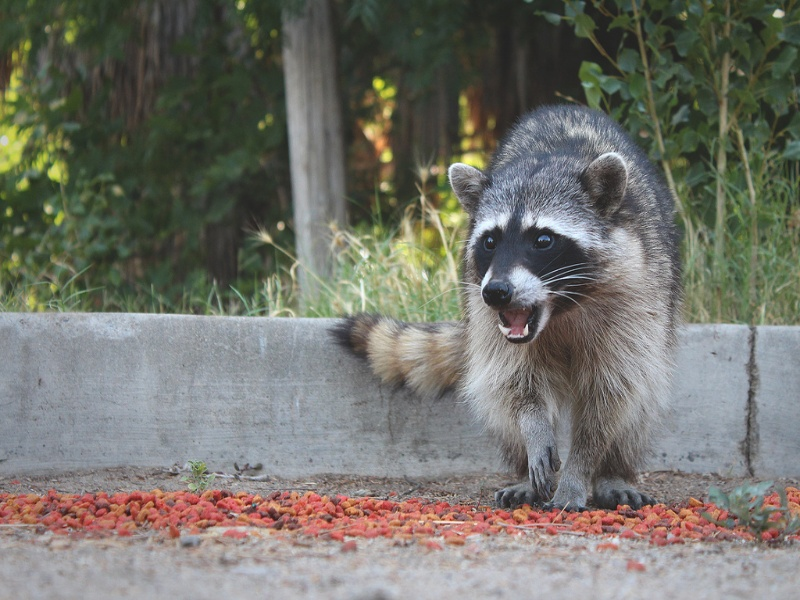raccoon: (325, 95, 691, 522)
